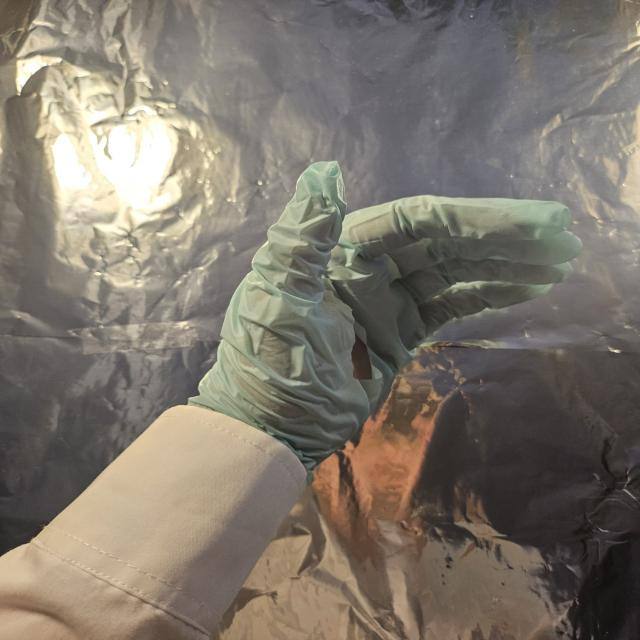gloves_damaged: (212, 156, 587, 458)
